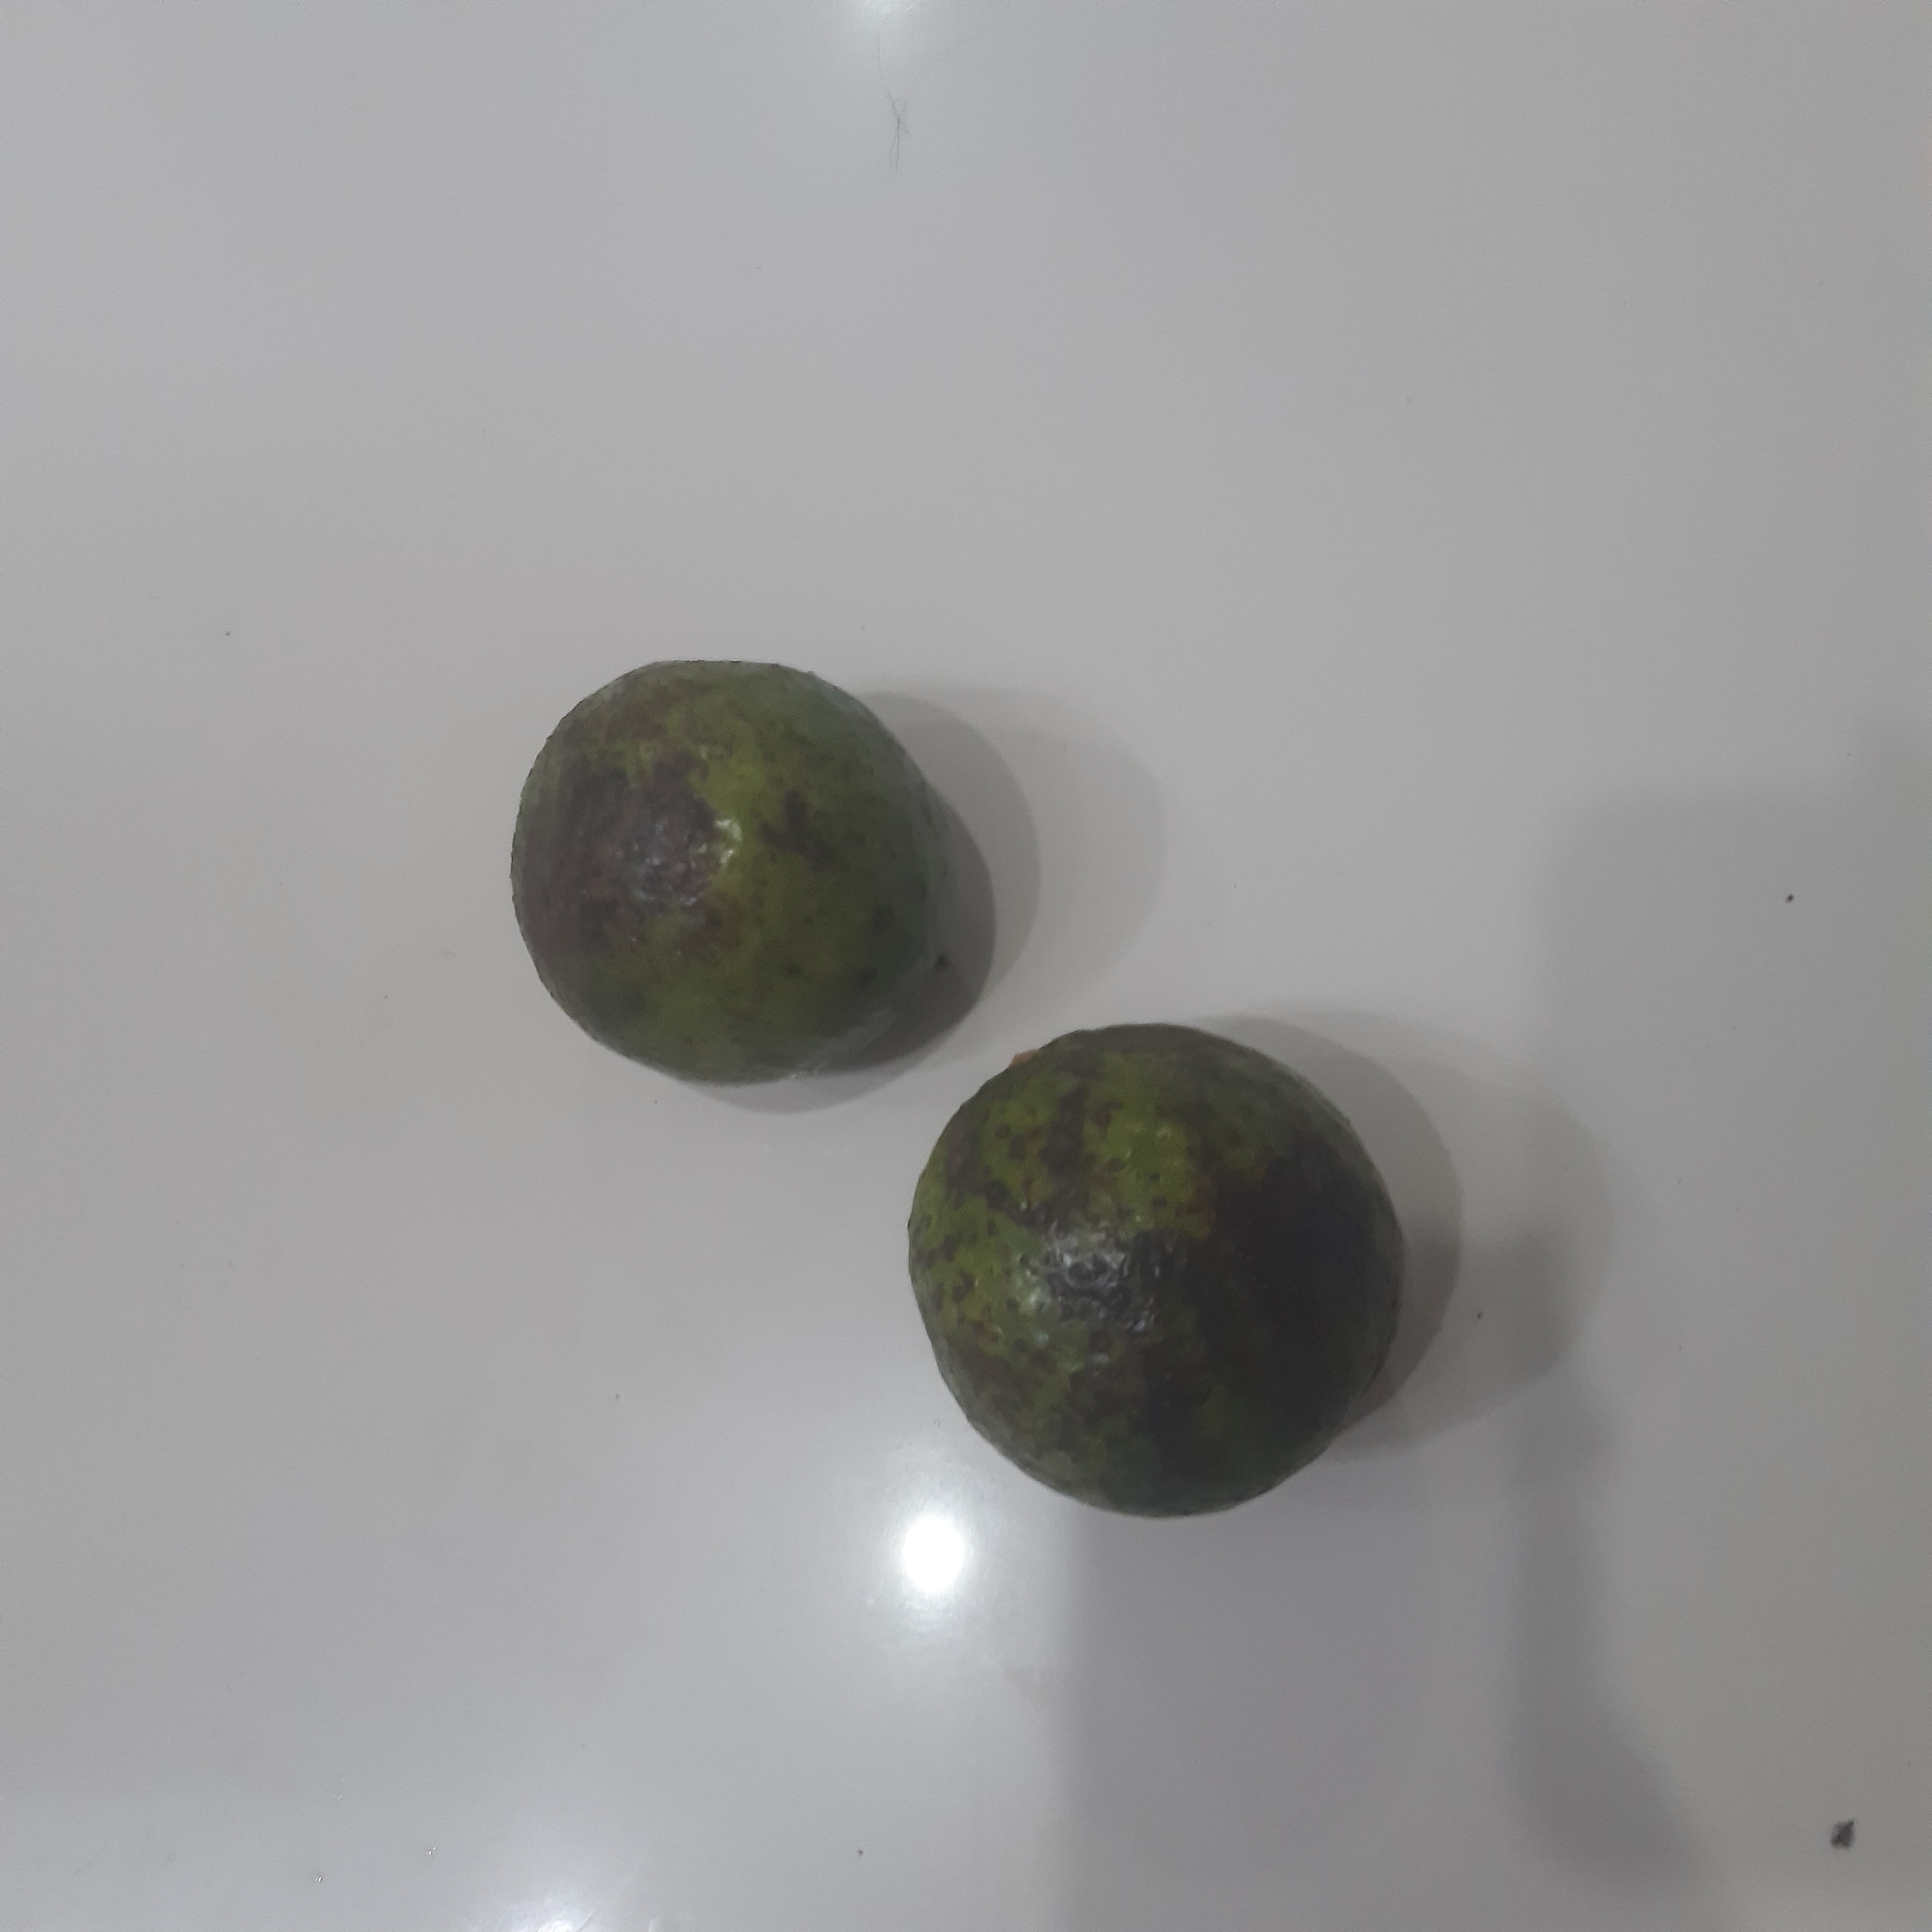Bo: (899, 1019, 1403, 1525), (499, 653, 952, 1095)
